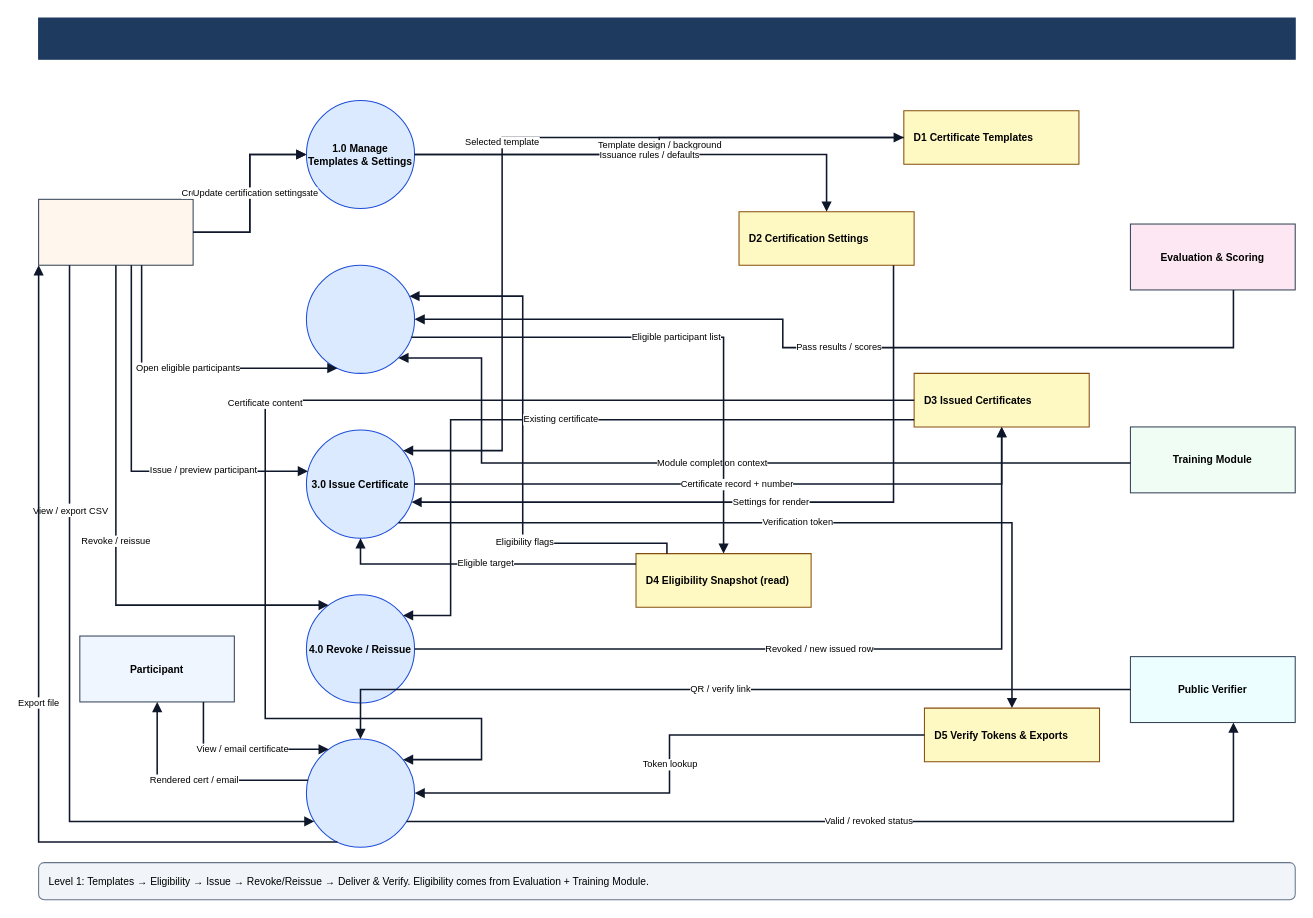
This 1313x918 diagram has some shape labels left out. Here are the shapes that lost their labels. From the top down, the centre of each, then its label:
[666,38]: DFD Level 1 — Certification Issuance (Decomposition)
[115,231]: Lead Trainer / Admin
[360,318]: 2.0 Check Eligibility
[360,792]: 5.0 Deliver & Verify
